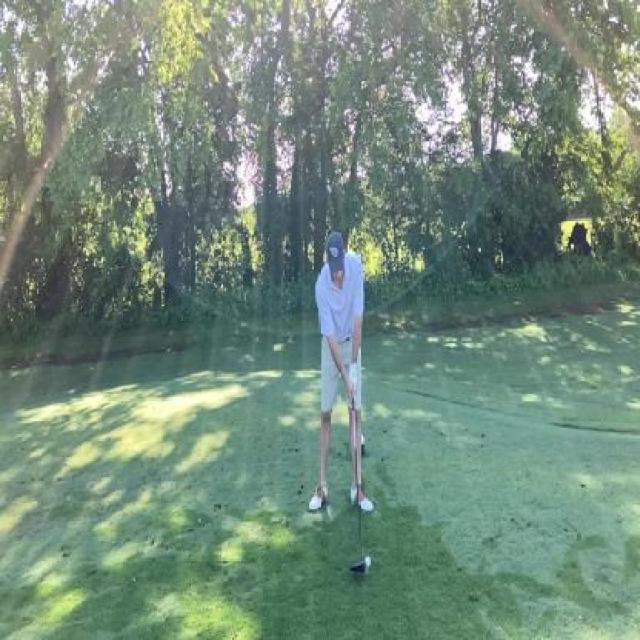club head: (350, 548, 365, 574)
